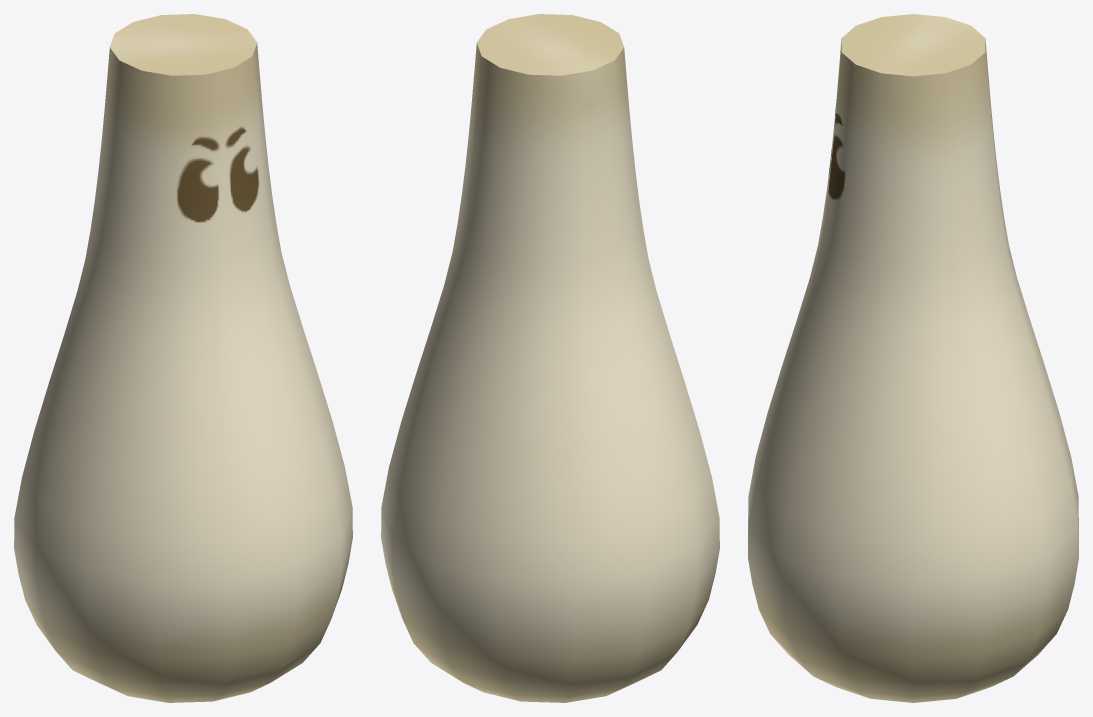
File: borowikNozka.FBX
3 renders of one model, left to right at view 1: azimuth 30°, elevation 25°; view 2: azimuth 150°, elevation 25°; view 3: azimuth 270°, elevation 25°, orthographic.
Visible parts, largest first — view 1: nozka; view 2: nozka; view 3: nozka.
Boxes of the visible parts, <box> form: nozka: <box>14,14,352,702</box>; nozka: <box>381,14,719,702</box>; nozka: <box>748,14,1078,702</box>.
Bounding box in the file's own units: 17.64 × 36.3 × 17.19.
1 material, 1 textured.
